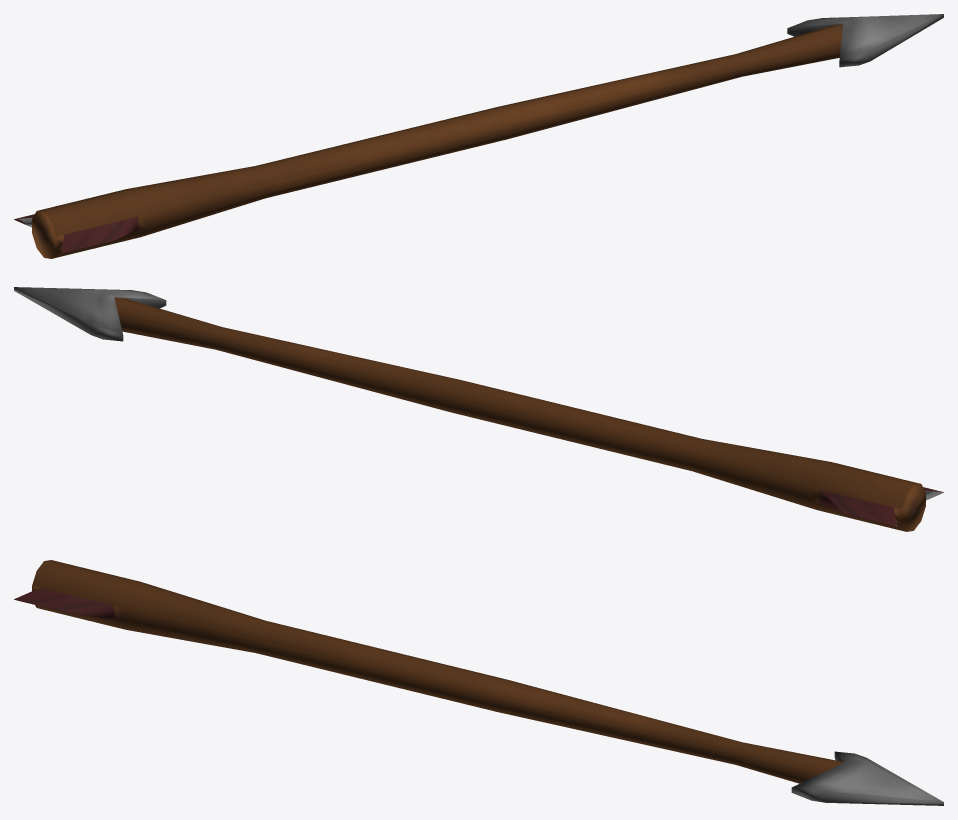
Rendered from arrow.fbx.
3 renders of one model, top to bottom at view 1: azimuth 30°, elevation 25°; view 2: azimuth 150°, elevation 25°; view 3: azimuth 330°, elevation 25°, orthographic.
Parts seen in each view (by area): view 1: pCylinder3; view 2: pCylinder3; view 3: pCylinder3.
Boxes of the visible parts, x1,y1,x2,y2 form: pCylinder3: [14, 14, 943, 258]; pCylinder3: [14, 287, 943, 531]; pCylinder3: [14, 560, 943, 805].
Size of the model in its own units: 41.36 by 2 by 3.75.
